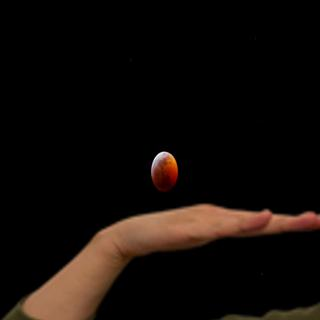WAIT: (102, 196, 320, 259)
